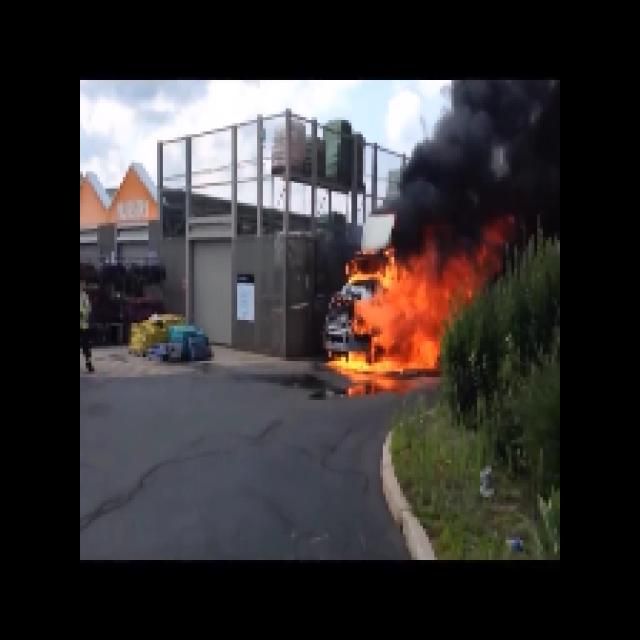fire: (359, 274, 445, 376)
smoke: (438, 93, 553, 221)
